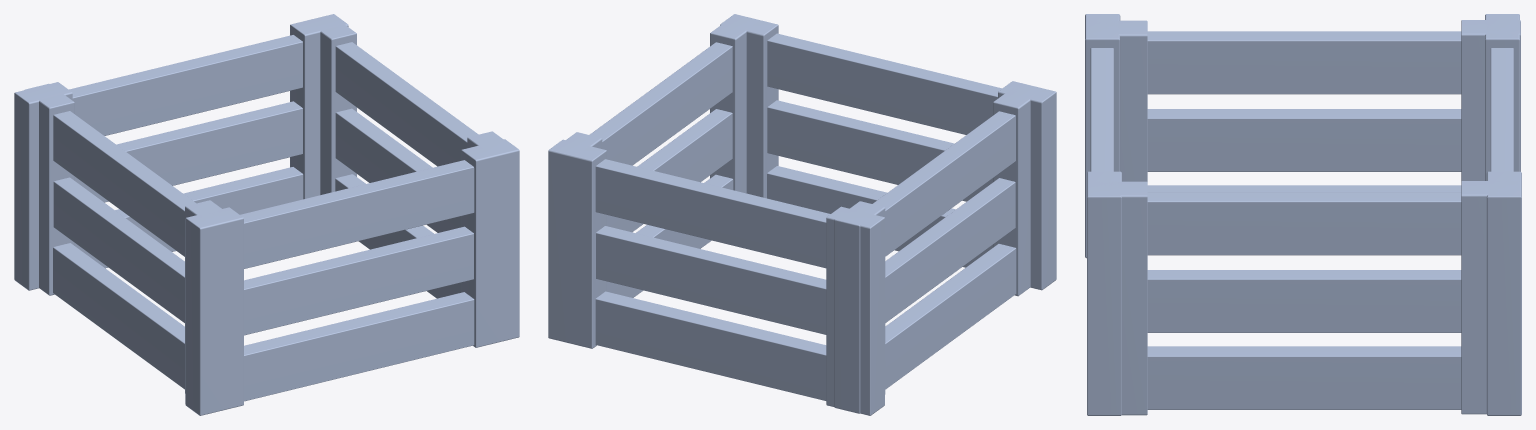
Rendered from watermeloncratev_01.fbx.
3 renders of one model, left to right at view 1: azimuth 30°, elevation 25°; view 2: azimuth 150°, elevation 25°; view 3: azimuth 270°, elevation 25°, orthographic. The views are drawn at different scales.
Parts seen in each view (by area): view 1: pCube133; view 2: pCube133; view 3: pCube133.
Part boxes in pixels (x1,y1,x2,y2): pCube133: [14, 14, 519, 415]; pCube133: [548, 14, 1056, 415]; pCube133: [1085, 14, 1521, 415].
Bounding box in the file's own units: 583 × 327 × 589.
